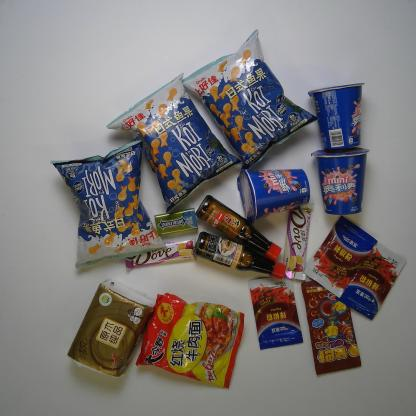Candy: (300, 279, 362, 377)
Chocolate: (284, 202, 312, 282), (125, 239, 195, 269)
Dessert: (234, 166, 311, 225), (309, 144, 367, 216), (310, 79, 363, 150)
Gum: (152, 206, 199, 236)
Instant Noodles: (136, 291, 245, 389)
Puffed Food: (183, 26, 316, 170), (104, 73, 239, 213), (50, 140, 167, 267)
Seasoner: (304, 214, 380, 298), (196, 194, 282, 260), (338, 243, 407, 323), (192, 230, 288, 279), (248, 274, 303, 350)
Tissue: (64, 279, 154, 377)
